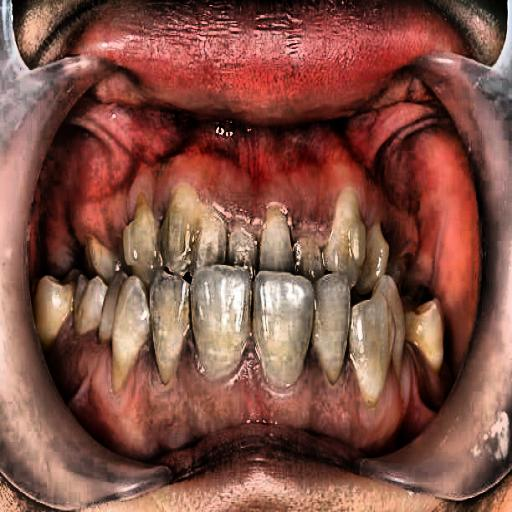Gingivitis: (66, 125, 434, 227)
